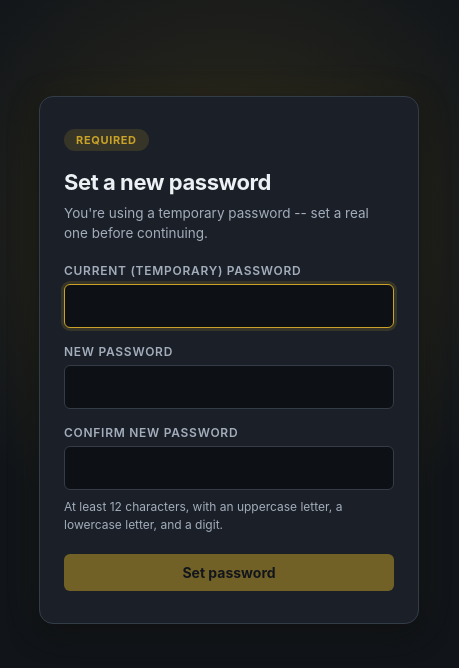
Test case: ChangePasswordPage › surfaces a rejection from the server
The width and height of the screenshot is (459, 668).
Type "Passw0rdPassw0rd" into the password field below "Current (temporary) password" at (229, 306), box [64,284,394,328]
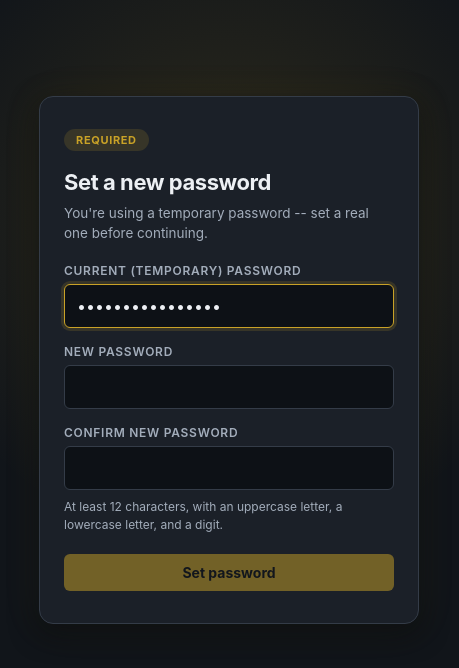
Type "Passw0rdPassw0rd" into the 2nd password field at (229, 387), box [64,365,394,409]
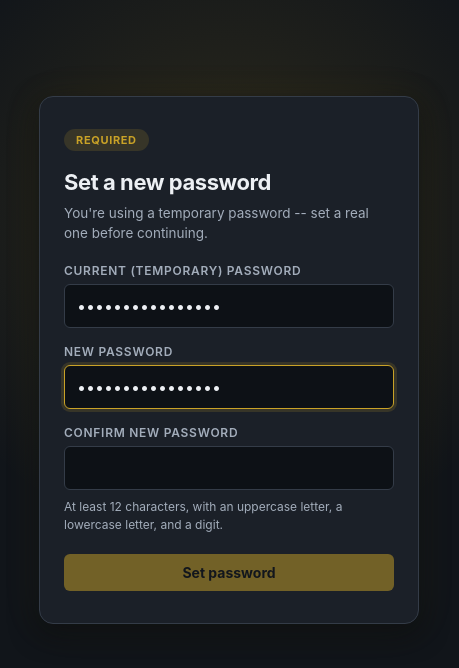
Type "Passw0rdPassw0rd" into the password field below "Confirm new password" at (229, 468), box [64,446,394,490]
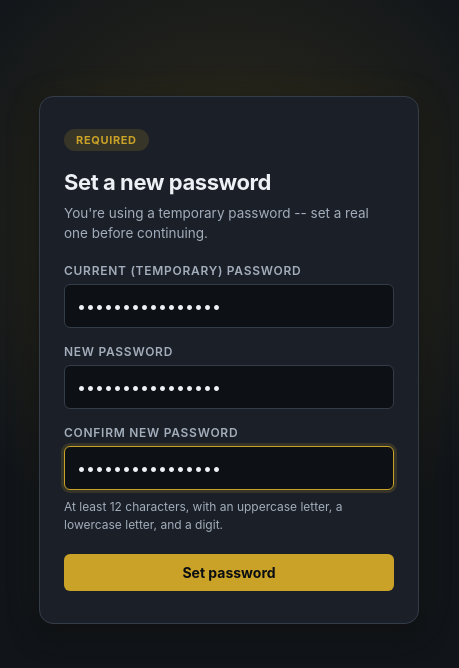
Click the button "Set password" at (229, 573), box [64,554,394,591]
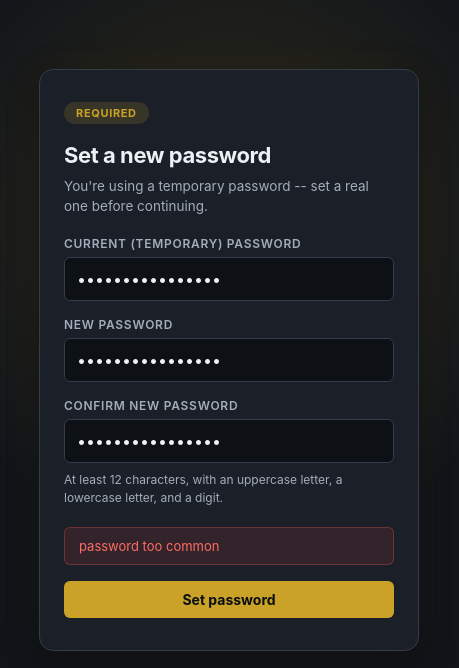
Expected: the text "password too common" is shown, [64,527,394,565]
